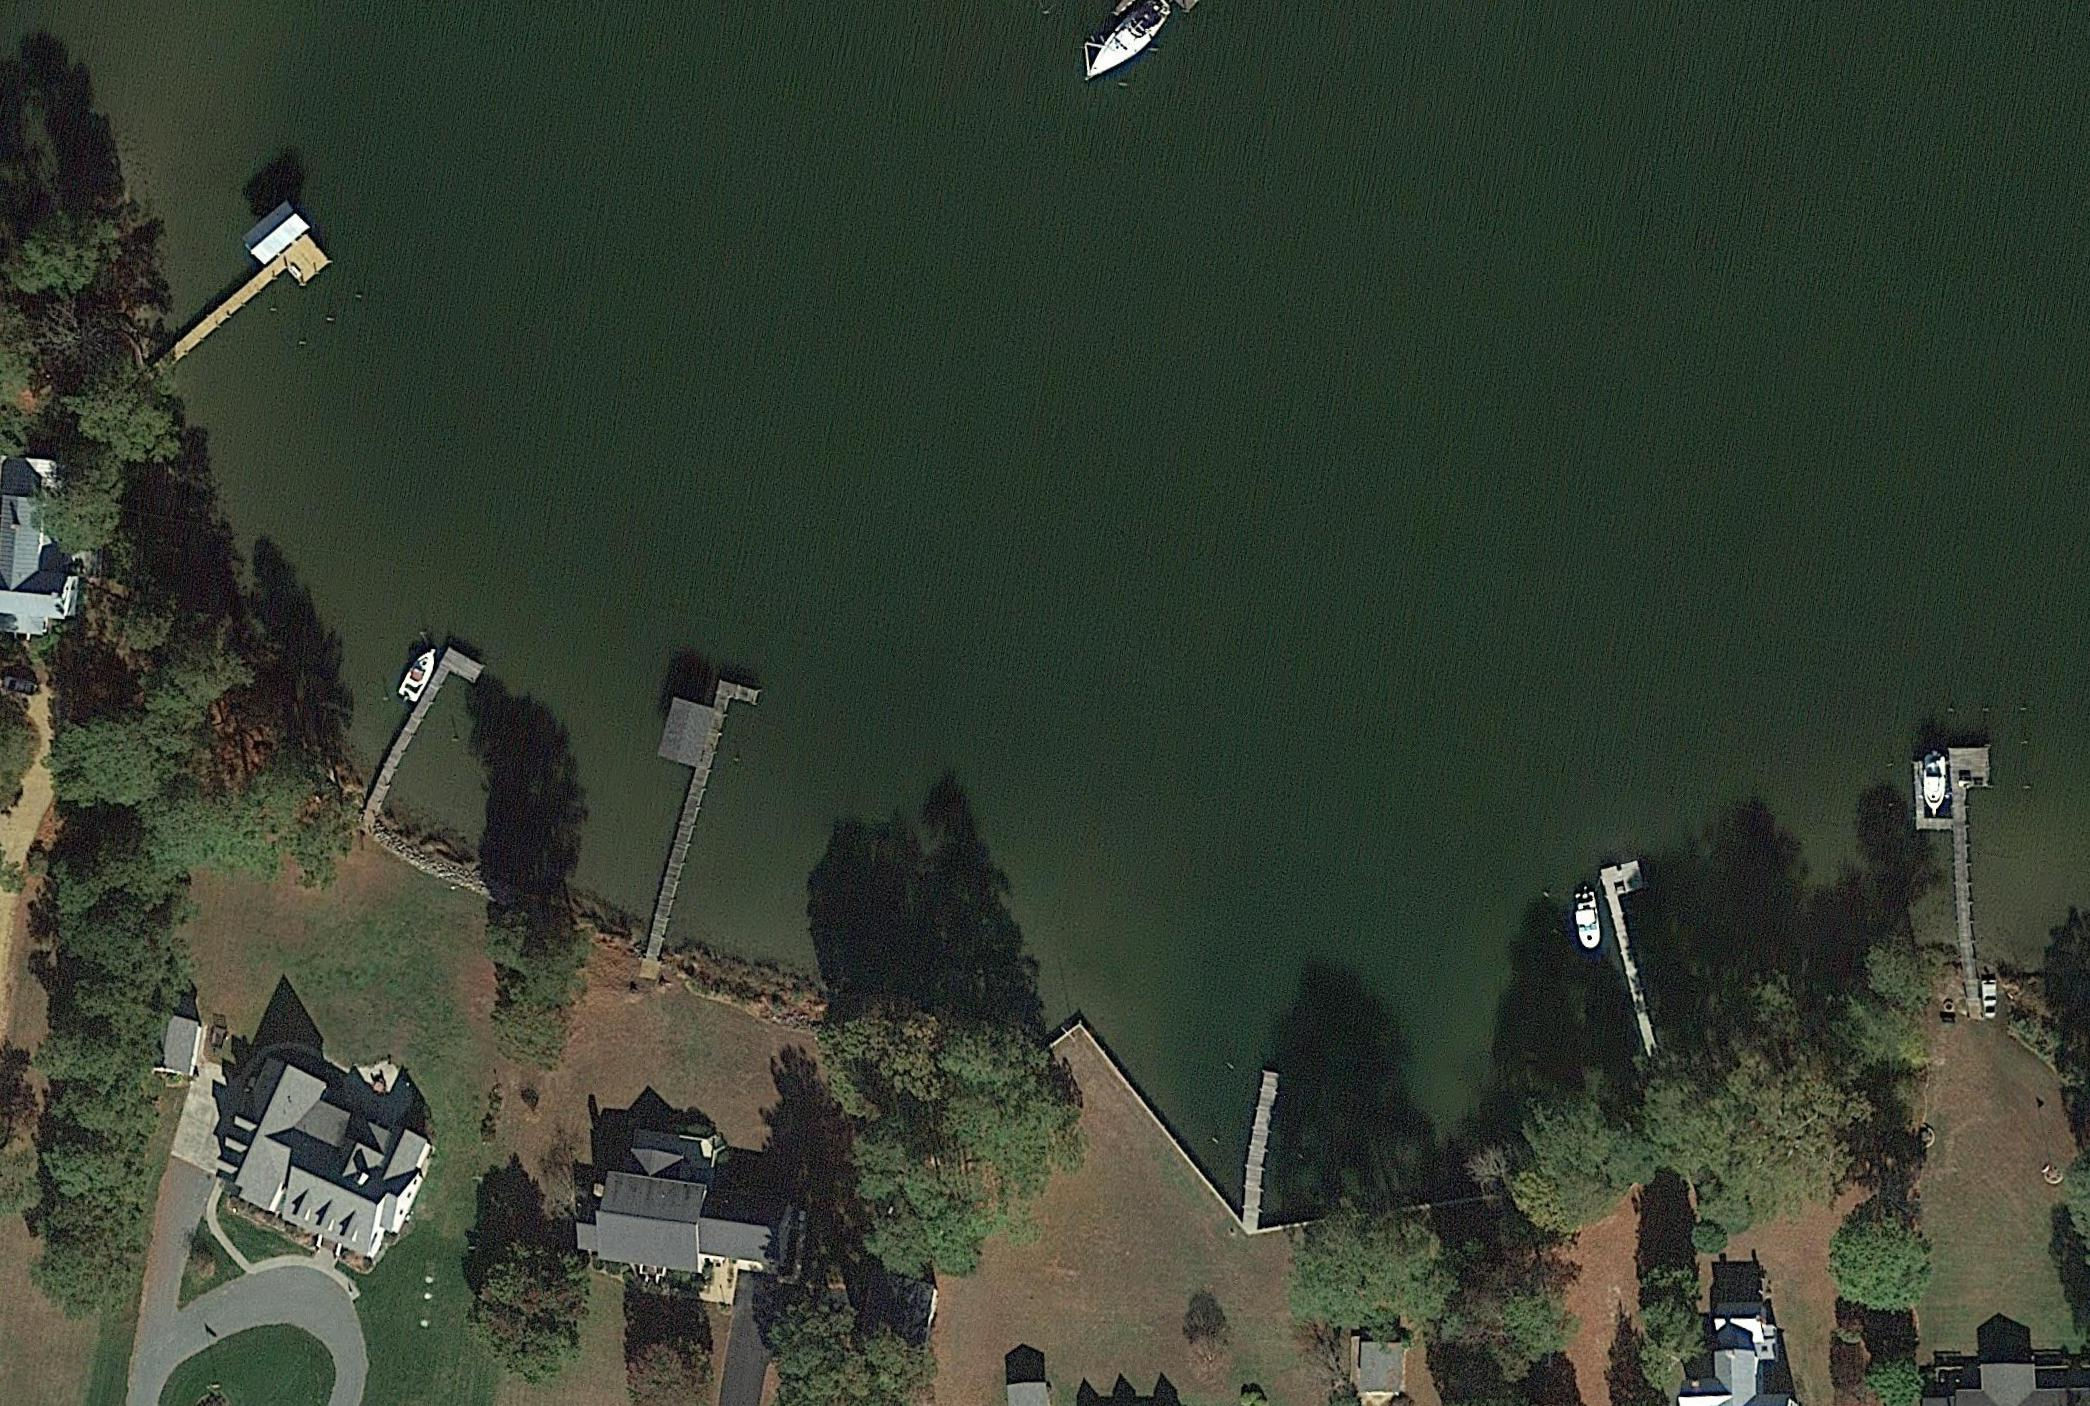harbor: (617, 668, 764, 912), (169, 232, 333, 388), (1913, 745, 1999, 945), (381, 645, 485, 788), (1599, 860, 1674, 1023), (1241, 1072, 1283, 1182)
ship: (392, 640, 446, 708), (1571, 890, 1604, 953), (1922, 752, 1949, 814), (2, 675, 44, 698)
